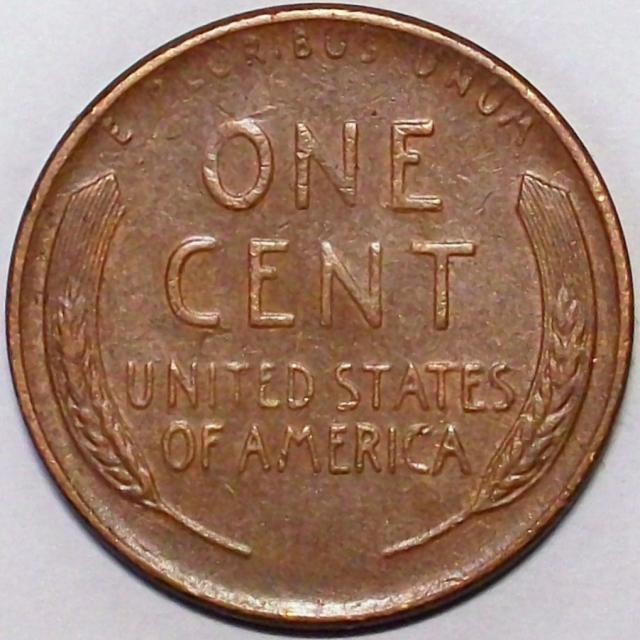Coin: (5, 0, 634, 630)
